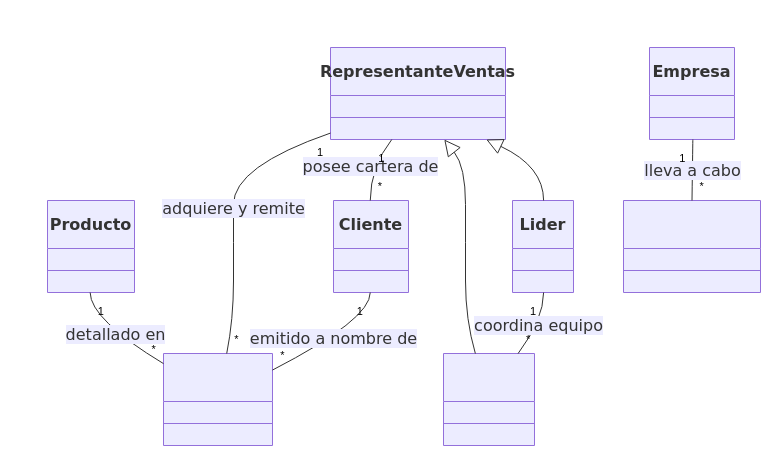
Image size: 781x463. Some labels were removed from this diagram. The shapes that lost their labels are listed below. From the top down, each one's centre as x and y in pixels, then its label:
At (691,246): "ReunionGeneral".
At (217,399): "TicketVenta".
At (488,399): "Vendedor".
